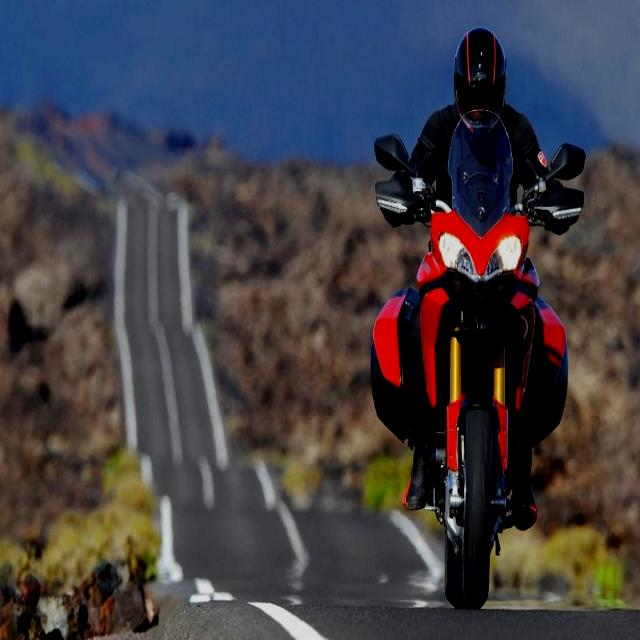MOTORCYCLE: (386, 180, 559, 606)
